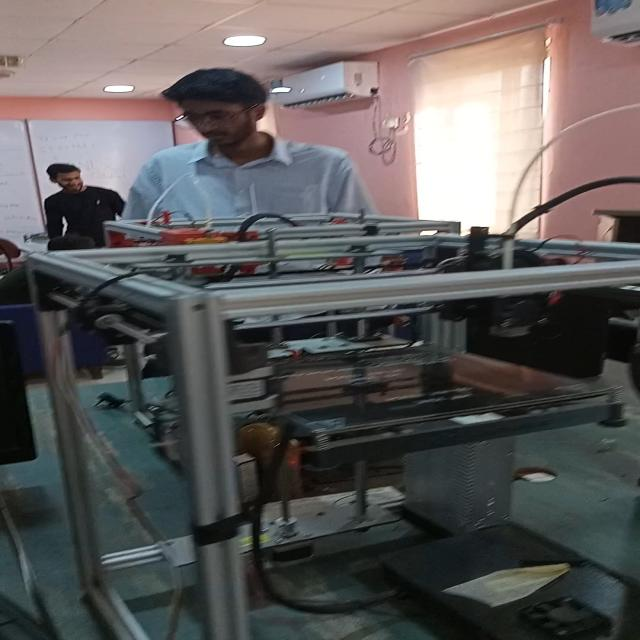dress: (126, 135, 384, 222)
